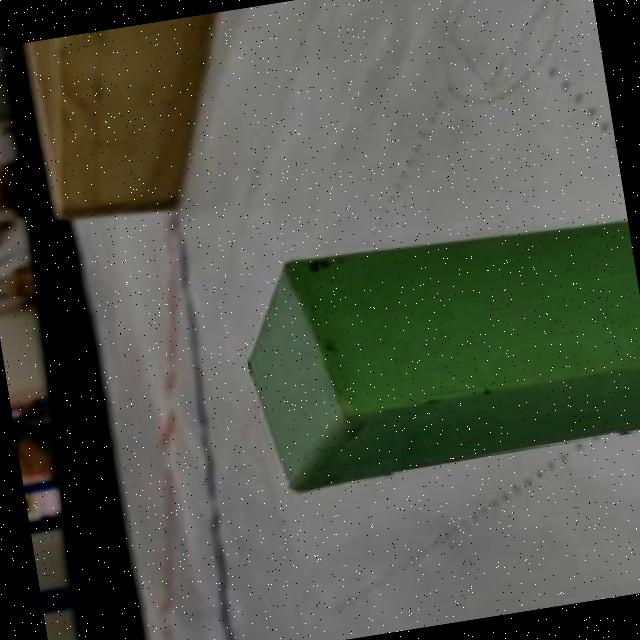greenbox: (225, 200, 640, 501)
